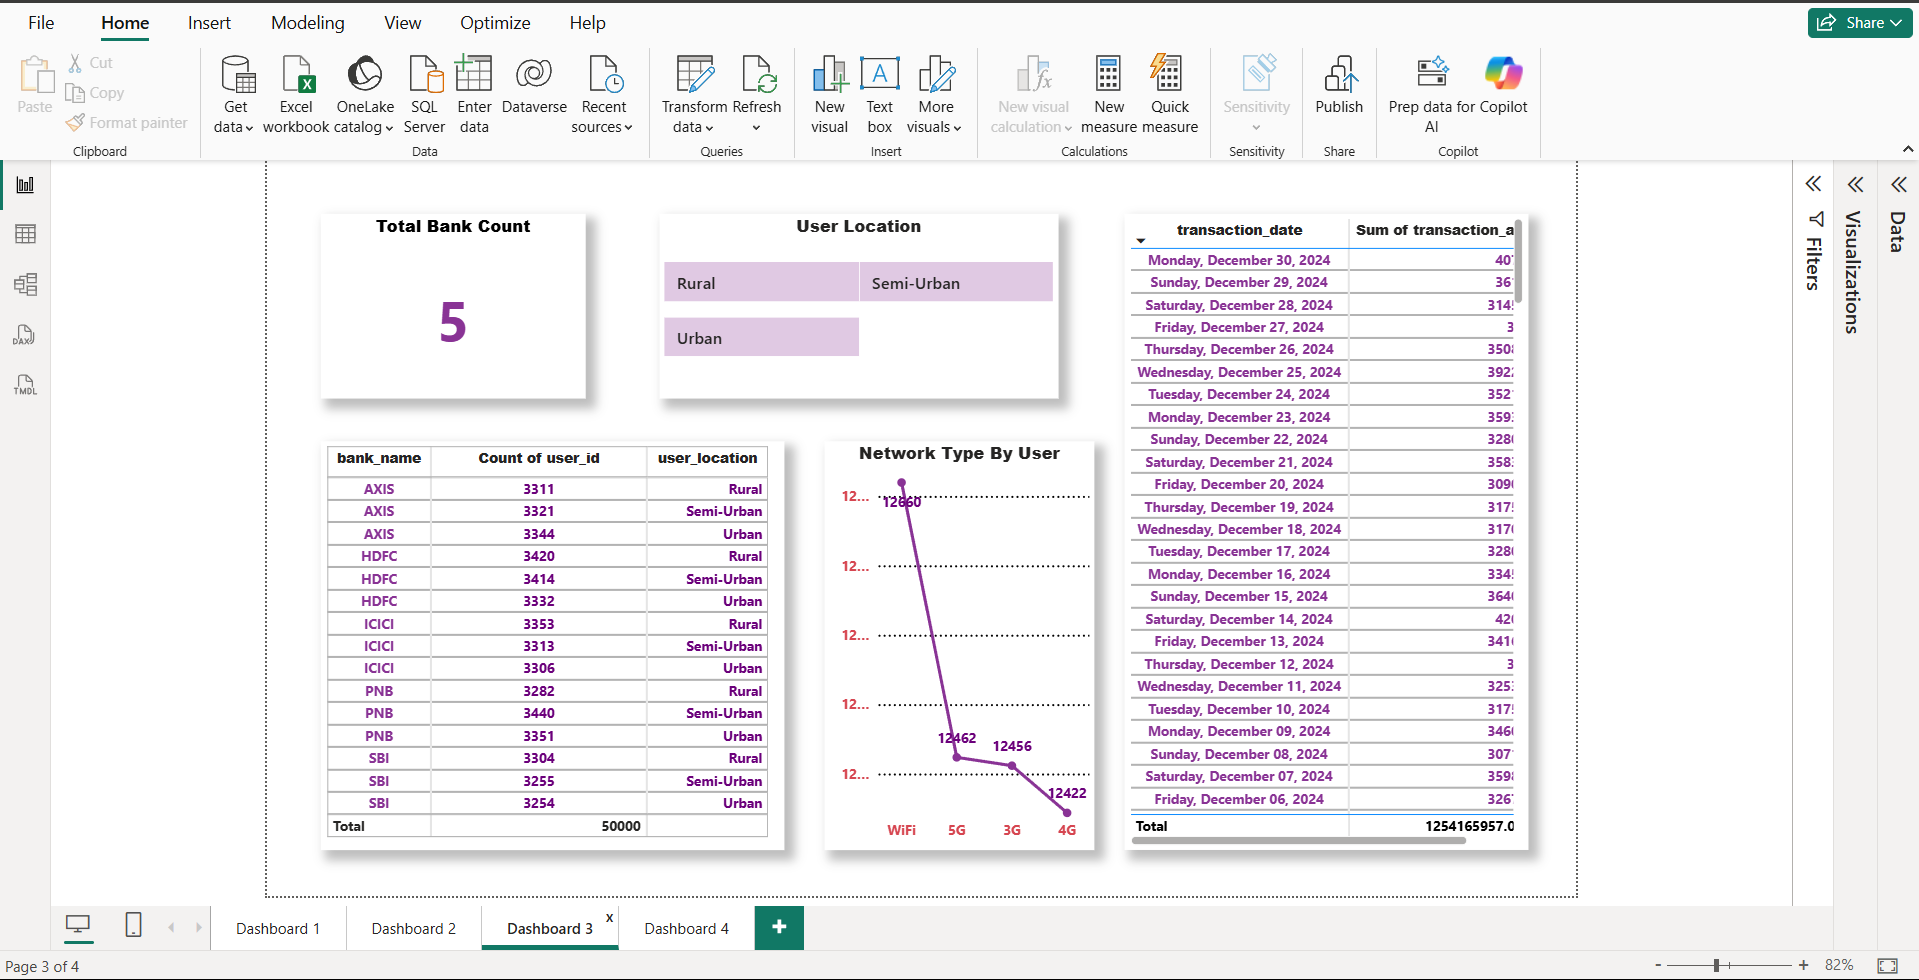

The page's visual inventory and layout, read from the dashboard file:
{"tool":"powerbi","page":{"name":"Page 3","canvas":[1280,720],"ordinal":2},"visuals":[{"type":"lineChart","title":"Network Type By User","fields":{"Category":["digital_payment_processed (2).network_type"],"Y":["CountNonNull(digital_payment_processed (2).user_id)"]},"box":[545.4,275.1,264.1,399.9],"z":0},{"type":"cardVisual","title":"User Location","fields":{"Rows":["digital_payment_processed (2).user_location"]},"box":[384,52.6,390.1,181],"z":1000},{"type":"tableEx","fields":{"Values":["digital_payment_processed (2).bank_name","CountNonNull(digital_payment_processed (2).user_id)","digital_payment_processed (2).user_location"]},"box":[52.6,275.1,453.7,399.9],"z":2000},{"type":"card","title":"Total Bank Count","fields":{"Values":["Count(digital_payment_processed (2).bank_name)"]},"box":[52.6,52.6,259.2,181],"z":3000},{"type":"tableEx","fields":{"Values":["digital_payment_processed (2).transaction_date","Sum(digital_payment_processed (2).transaction_amount)"]},"box":[838.9,52.6,395,622.4],"z":4000}]}

Visuals, with their boxes on the page's 1280x720 design canvas (x1, y1, x2, y2). These are canvas units, not pixel positions in the 1919x980 screenshot, which may show the page scaled, cropped or inside an application window:
"Network Type By User" lineChart: box=[545, 275, 810, 675]
"User Location" cardVisual: box=[384, 53, 774, 234]
tableEx - digital_payment_processed (2).bank_name x CountNonNull(digital_payment_processed (2).user_id): box=[53, 275, 506, 675]
"Total Bank Count" card: box=[53, 53, 312, 234]
tableEx - digital_payment_processed (2).transaction_date x Sum(digital_payment_processed (2).transaction_amount): box=[839, 53, 1234, 675]
